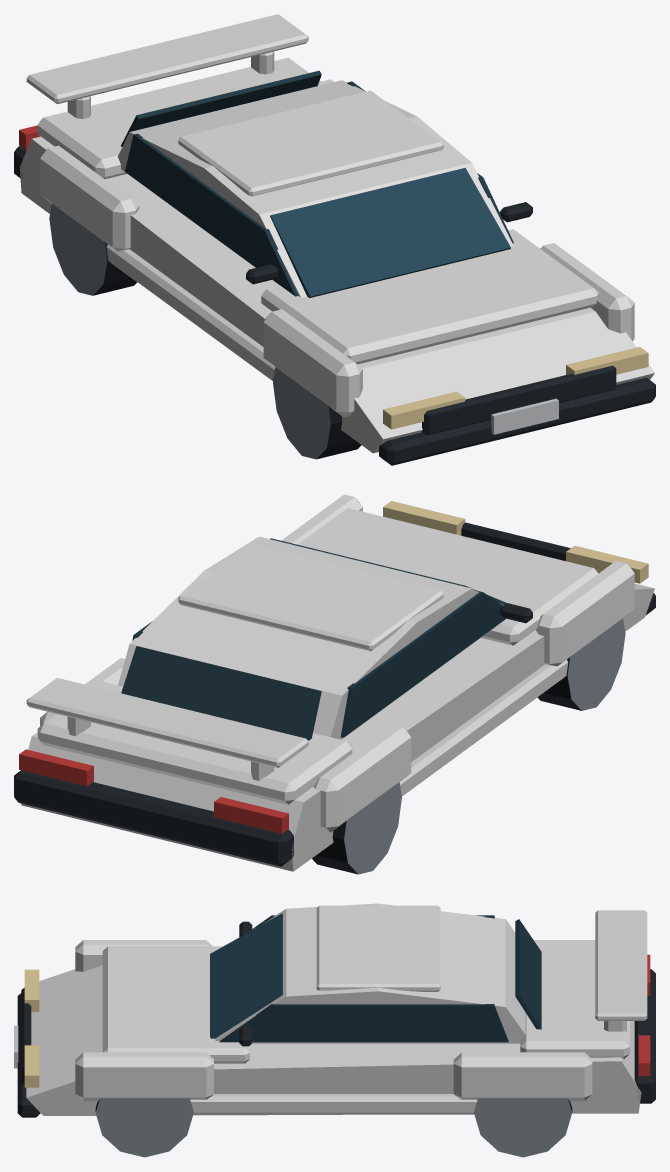
Rendered from car_sports_lod0.glb.
The picture shows the model from 3 angles, top to bottom: view 1: azimuth 30°, elevation 25°; view 2: azimuth 150°, elevation 25°; view 3: azimuth 270°, elevation 25°; orthographic projection. The views are drawn at different scales.
Parts seen in each view (by area): view 1: paint, trim; view 2: paint, trim; view 3: paint, trim.
Boxes of the visible parts, x1,y1,x2,y2 form: paint: (19,14,654,453); trim: (14,70,655,465); paint: (21,494,654,871); trim: (14,501,655,874); paint: (26,903,647,1115); trim: (14,913,655,1157).
Size of the model in its own units: 2.02 by 1.16 by 4.44.
